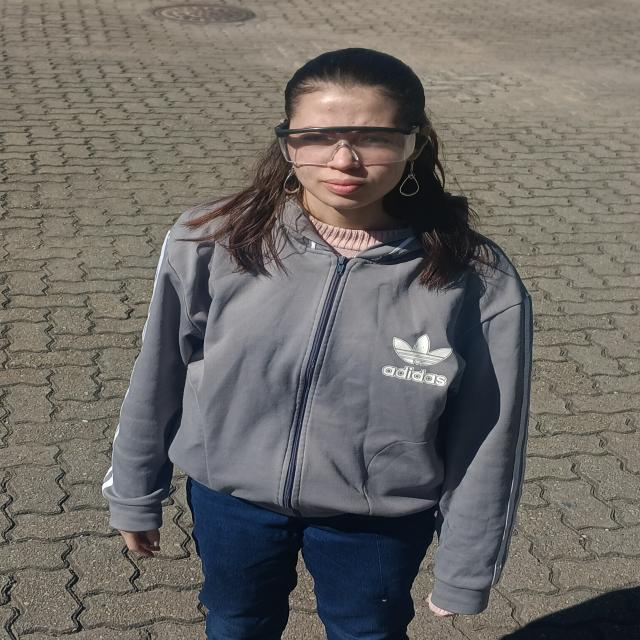oculos-epi: (275, 122, 416, 166)
